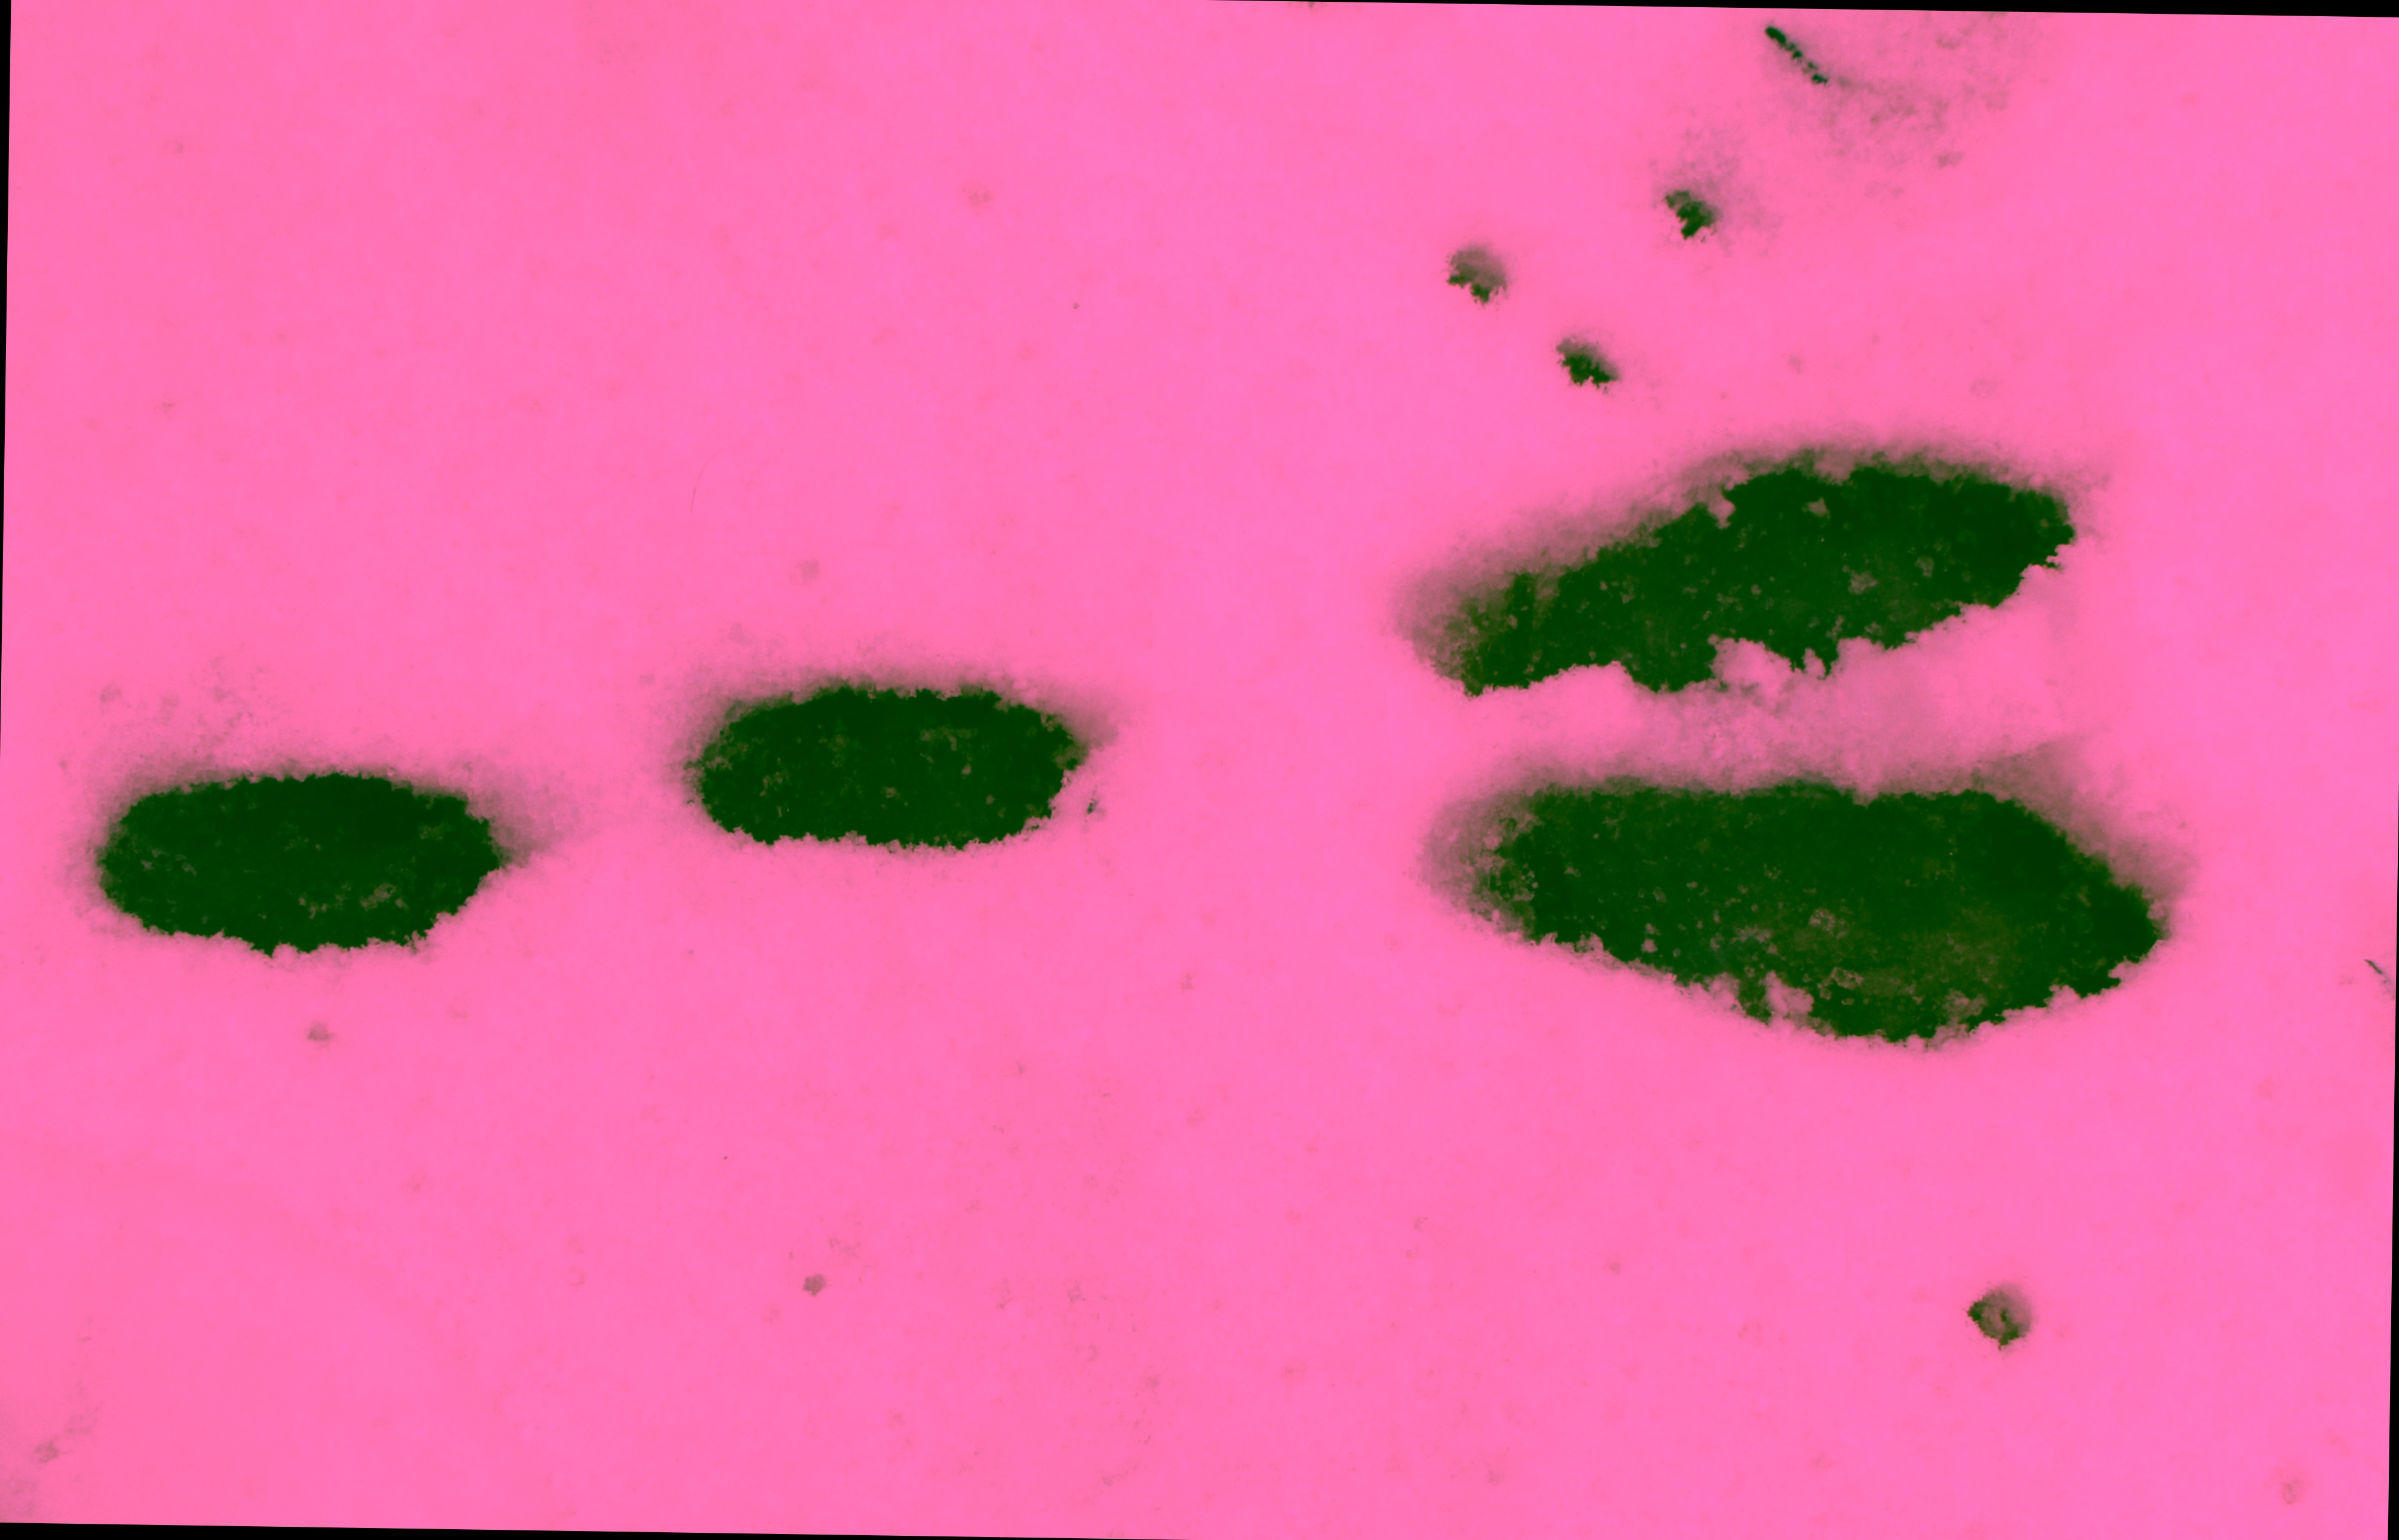lapin: (1418, 722, 2200, 1079), (1394, 390, 2107, 708), (65, 773, 563, 977), (661, 650, 1109, 867)
